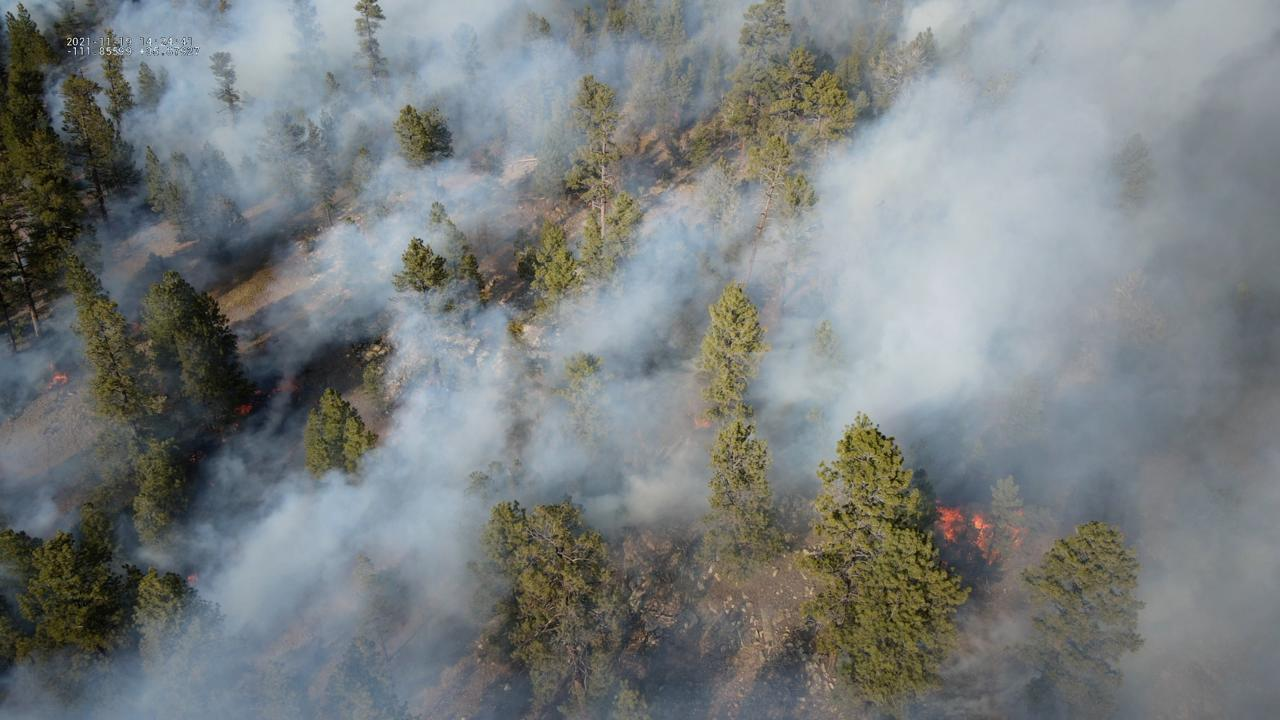fire: (929, 494, 1031, 568), (272, 374, 301, 393), (45, 371, 70, 389), (687, 416, 713, 431), (232, 402, 253, 417), (255, 389, 262, 396)
smoke: (0, 0, 1280, 720)
